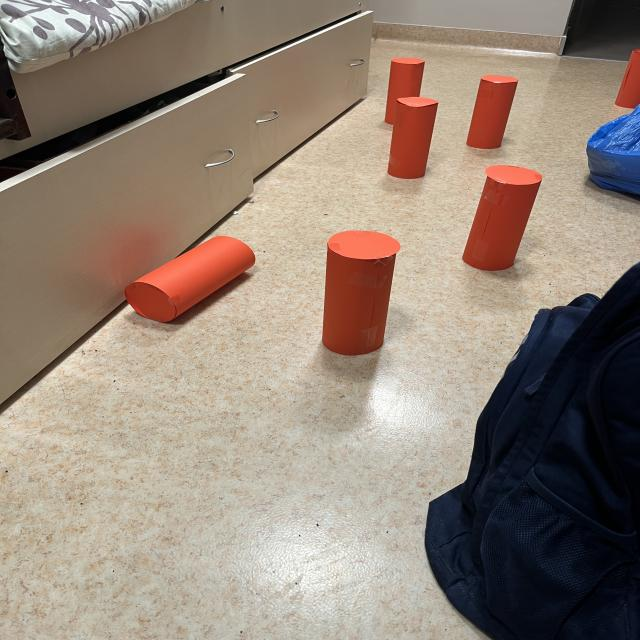przeszkoda: (125, 236, 254, 322), (322, 230, 400, 355), (462, 165, 542, 270), (385, 58, 438, 179), (466, 75, 518, 149), (615, 51, 640, 109)
